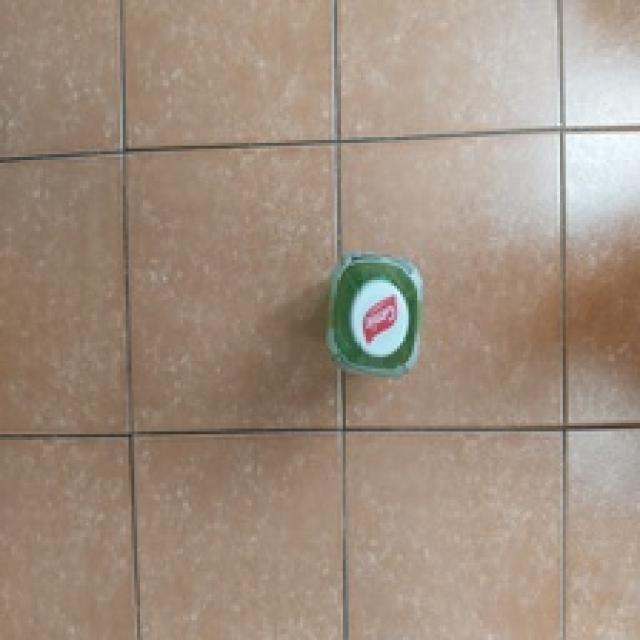Plastic: (326, 256, 426, 381)
